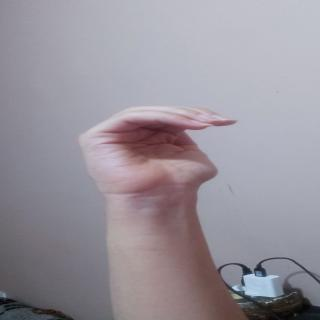HAA: (48, 102, 263, 198)
